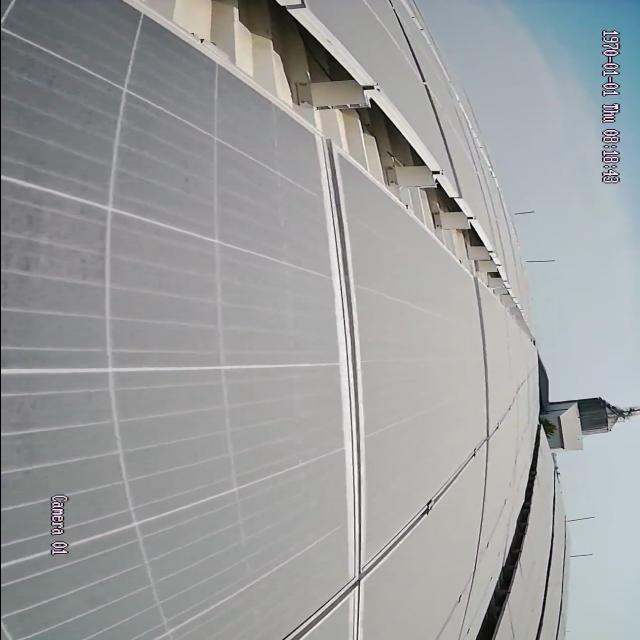interior panel: (284, 158, 477, 640)
outher panel: (123, 0, 532, 338), (472, 461, 535, 640)
